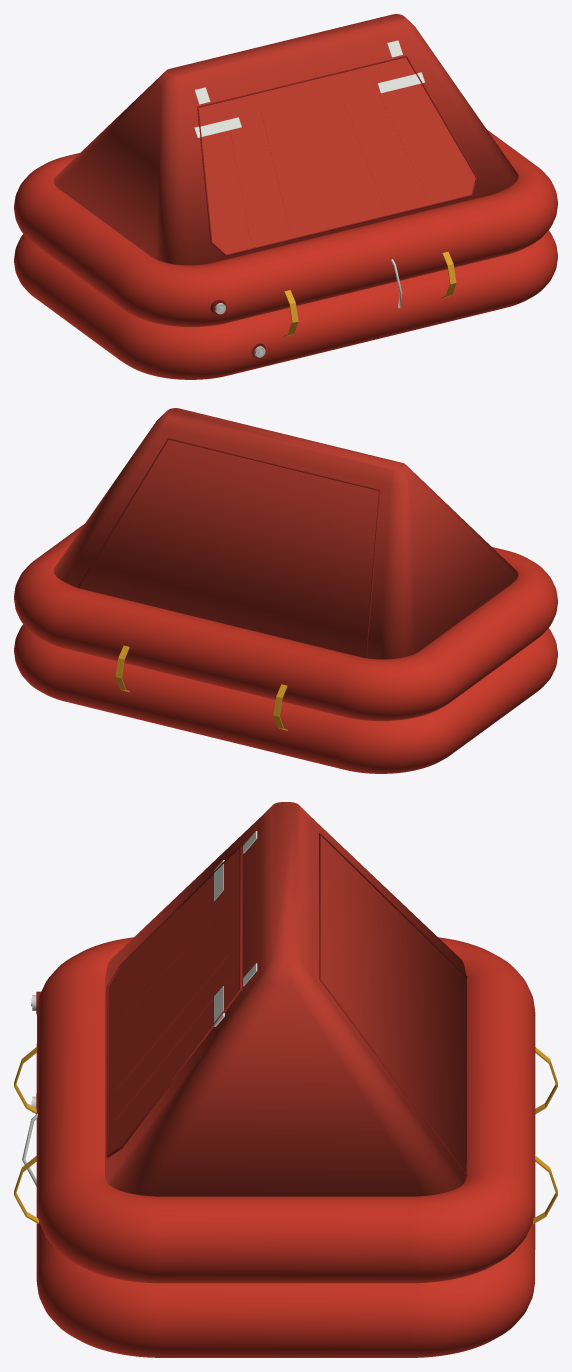
The picture shows the model from 3 angles, top to bottom: view 1: azimuth 30°, elevation 25°; view 2: azimuth 150°, elevation 25°; view 3: azimuth 270°, elevation 25°; orthographic projection. The views are drawn at different scales.
Visible parts, largest first — view 1: Closed upper inflated buoyancy tube, Closed front entrance flap, Closed ridge canopy, Closed lower inflated buoyancy tube, Closed flap perimeter seam, Pale front reflective strip 0, Pale front reflective strip 1; view 2: Closed ridge canopy, Closed upper inflated buoyancy tube, Closed lower inflated buoyancy tube, Generic rear panel seam; view 3: Closed ridge canopy, Closed upper inflated buoyancy tube, Closed lower inflated buoyancy tube, Closed front entrance flap, Closed flap perimeter seam, Generic rear panel seam.
Part boxes in pixels (x1,y1,x2,y2): Closed upper inflated buoyancy tube: (14, 130, 557, 326); Closed front entrance flap: (198, 57, 475, 254); Closed ridge canopy: (53, 14, 518, 265); Closed lower inflated buoyancy tube: (14, 230, 557, 379); Closed flap perimeter seam: (197, 55, 477, 256); Pale front reflective strip 0: (194, 117, 241, 137); Pale front reflective strip 1: (377, 72, 424, 93); Closed ridge canopy: (53, 408, 518, 659); Closed upper inflated buoyancy tube: (14, 524, 557, 720); Closed lower inflated buoyancy tube: (14, 624, 557, 773); Generic rear panel seam: (77, 438, 380, 658); Closed ridge canopy: (105, 802, 466, 1196); Closed upper inflated buoyancy tube: (36, 937, 535, 1283); Closed lower inflated buoyancy tube: (36, 1176, 535, 1357); Closed front entrance flap: (108, 847, 242, 1154); Closed flap perimeter seam: (106, 845, 241, 1158); Generic rear panel seam: (319, 832, 467, 1176).
Size of the model in its own units: 2.74 by 1.46 by 2.12.
